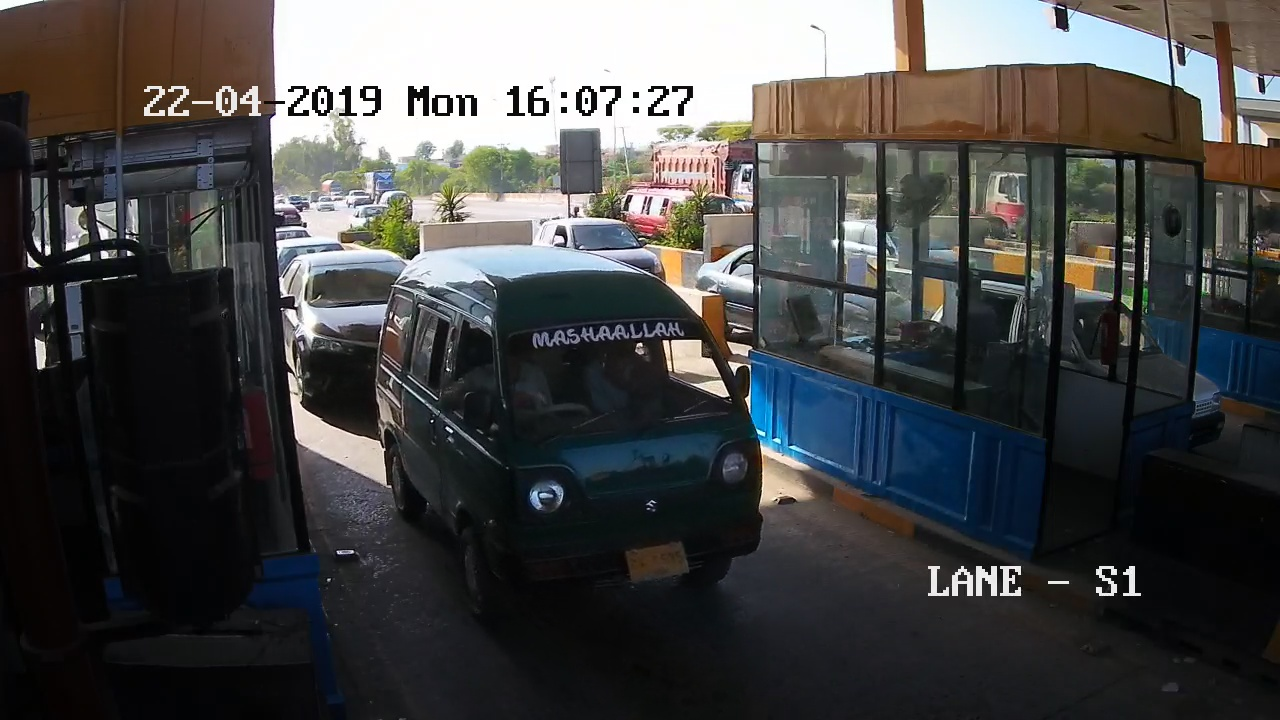Number Plate (Car): (625, 544, 692, 577)
